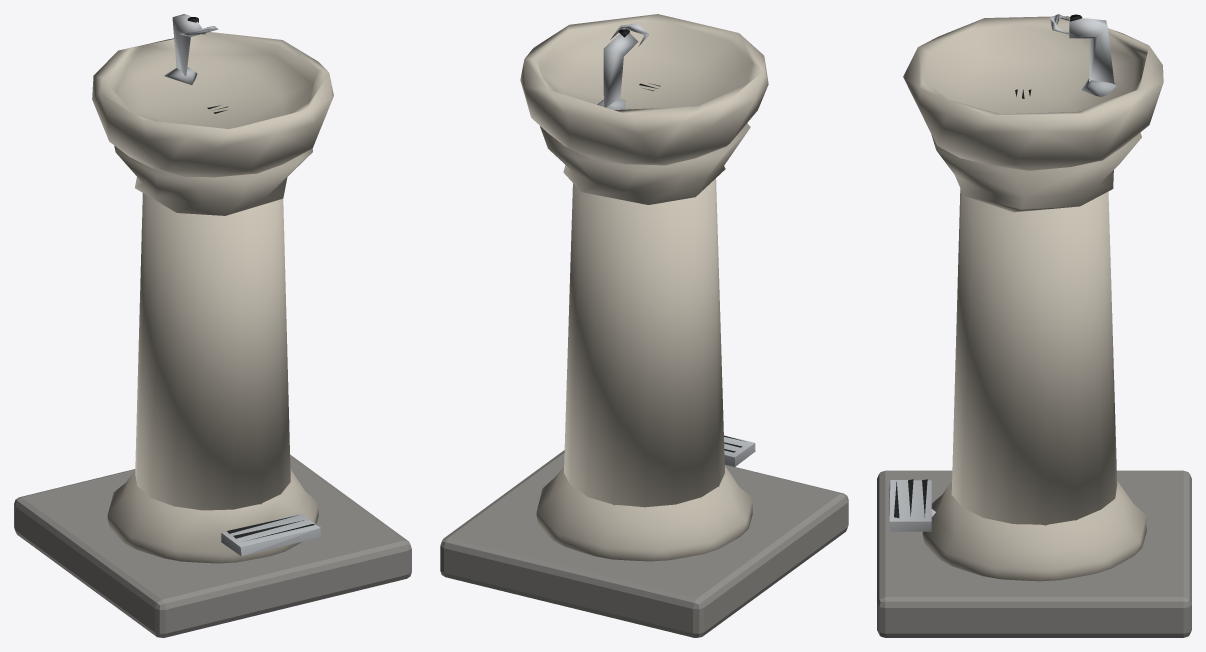
The model's file is drinkingFountain.far.glb.
3 renders of one model, left to right at view 1: azimuth 30°, elevation 25°; view 2: azimuth 150°, elevation 25°; view 3: azimuth 270°, elevation 25°, orthographic. The views are drawn at different scales.
Visible parts, largest first — view 1: drinkingFountain_far; view 2: drinkingFountain_far; view 3: drinkingFountain_far.
Part boxes in pixels (bbox=[...]): drinkingFountain_far: bbox=[14, 14, 411, 637]; drinkingFountain_far: bbox=[440, 14, 848, 637]; drinkingFountain_far: bbox=[877, 14, 1191, 637].
Size of the model in its own units: 0.56 by 1.09 by 0.56.
